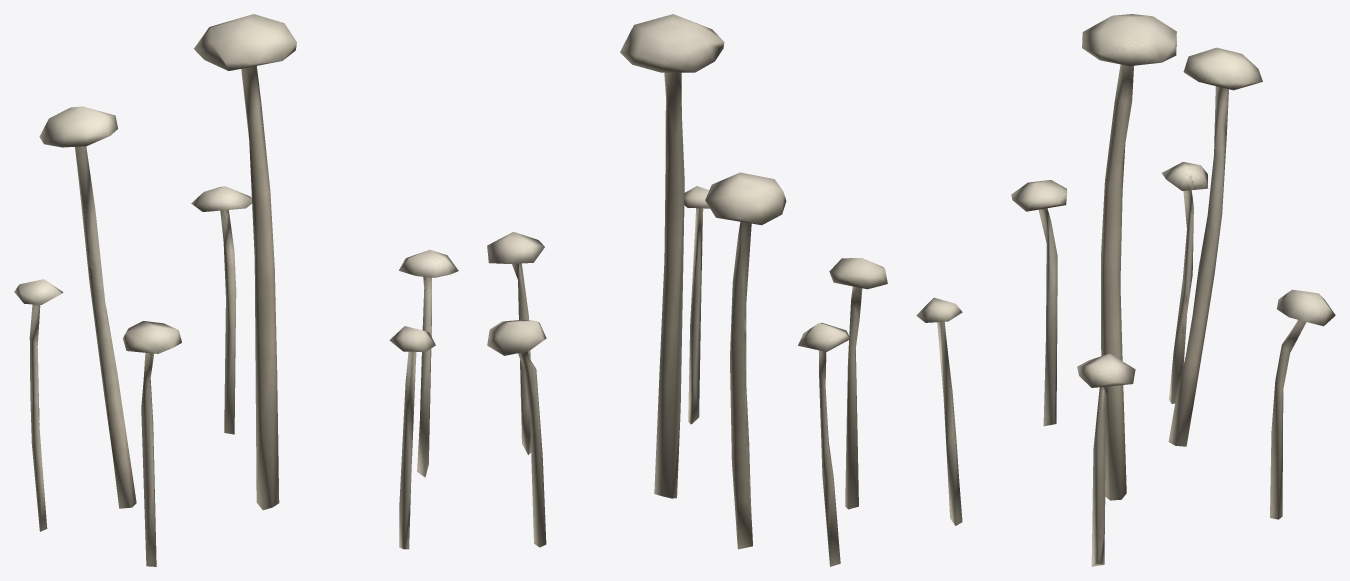
Rendered from mushgrass_c.glb.
The picture shows the model from 3 angles, left to right: view 1: azimuth 30°, elevation 25°; view 2: azimuth 150°, elevation 25°; view 3: azimuth 270°, elevation 25°; orthographic projection. The views are drawn at different scales.
Visible parts, largest first — view 1: mushgrass; view 2: mushgrass; view 3: mushgrass.
Boxes of the visible parts, x1,y1,x2,y2 form: mushgrass: (14, 14, 458, 566); mushgrass: (487, 14, 887, 566); mushgrass: (916, 14, 1335, 566).
Bounding box in the file's own units: 0.1443 × 0.1698 × 0.136.
Materials: 1 (1 with a texture image).
